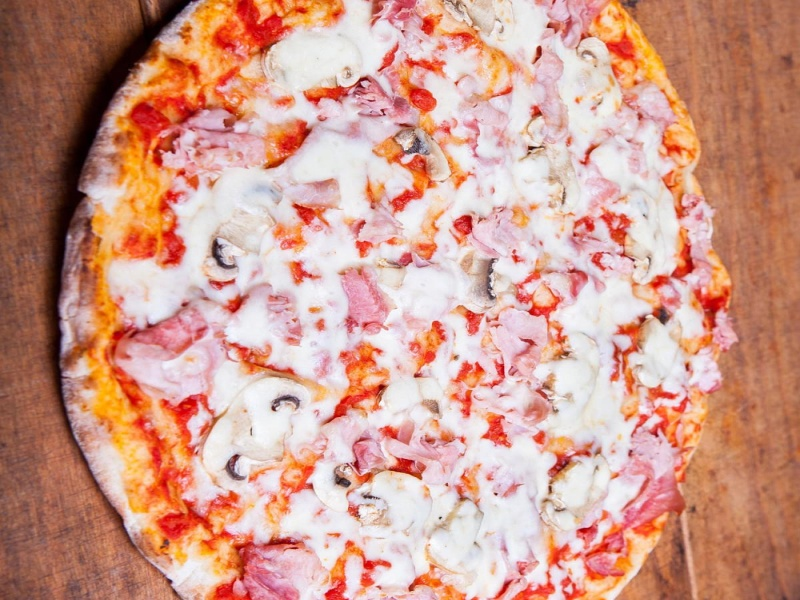champignon: (196, 369, 323, 494)
